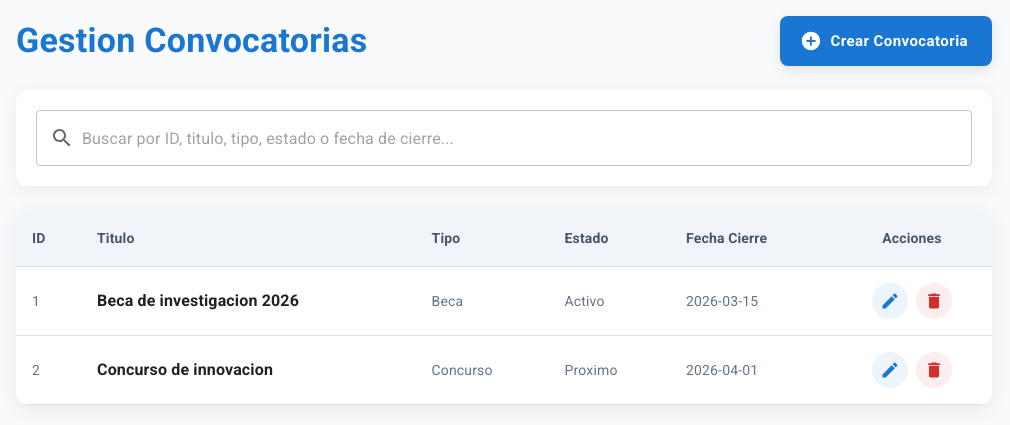
Test: GestionConvocatorias › filtra convocatorias con la barra de busqueda
Expected: the text "Beca de investigacion 2026" is shown, [97,291,299,310]
Expected: the text "Concurso de innovacion" is shown, [97,360,273,379]
Type "concurso" into the field with placeholder "Buscar por ID, titulo, tipo, estado o fecha de cierre..." at (527, 138), box [82,110,972,166]
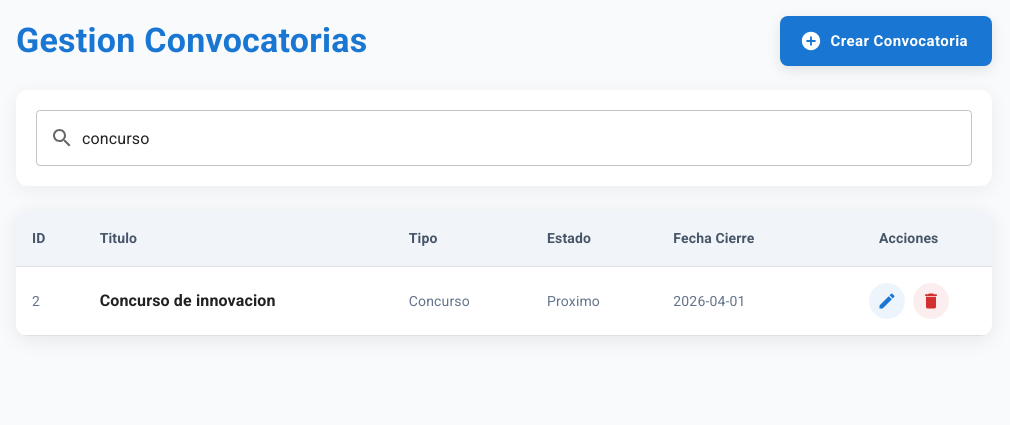
Expected: the text "Concurso de innovacion" is shown, [100,291,276,310]
Result: the text "Beca de investigacion 2026" is gone
